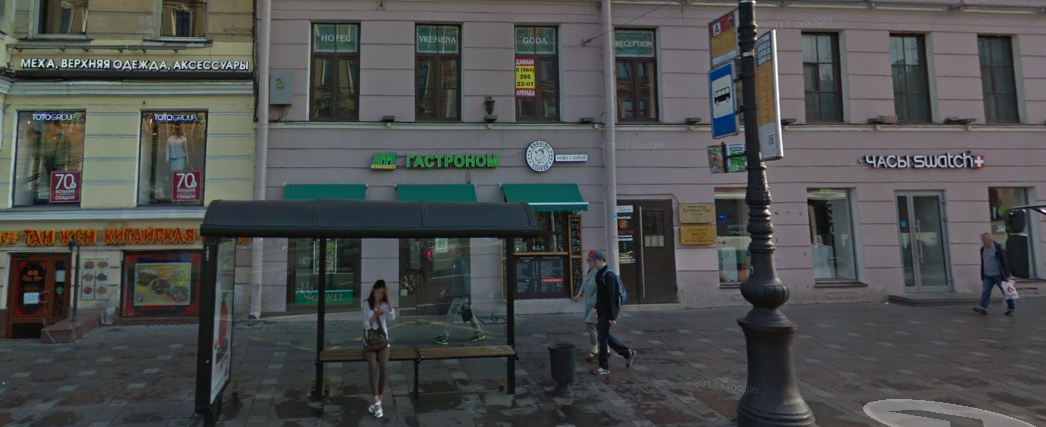door: (894, 191, 957, 297), (617, 204, 681, 300)
signboard: (1, 224, 200, 255), (15, 53, 250, 76), (370, 148, 500, 173), (859, 148, 986, 172), (522, 137, 589, 170)
window: (19, 110, 81, 210), (143, 112, 203, 211), (116, 254, 200, 324), (808, 188, 859, 286), (514, 22, 561, 123), (310, 23, 356, 121), (413, 26, 459, 124), (615, 28, 660, 124), (802, 31, 846, 125), (889, 29, 933, 123), (978, 38, 1023, 127), (719, 194, 752, 289)
